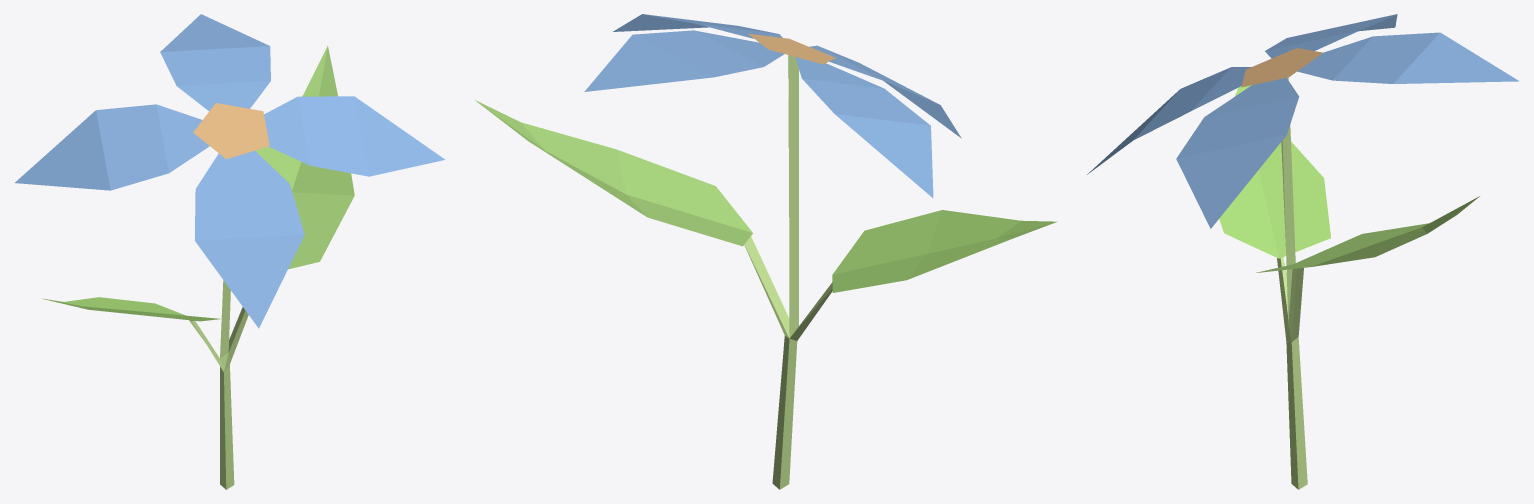
Rendered from Flower_a_TwoS_11.fbx.
3 views of the same model, side by side, from view 1: azimuth 30°, elevation 25°; view 2: azimuth 150°, elevation 25°; view 3: azimuth 270°, elevation 25° (orthographic). The views are drawn at different scales.
Visible parts, largest first — view 1: Flower_a_TwoS_11; view 2: Flower_a_TwoS_11; view 3: Flower_a_TwoS_11.
Boxes of the visible parts, left/top/right/bottom form: Flower_a_TwoS_11: left=15, top=14, right=445, bottom=489; Flower_a_TwoS_11: left=475, top=14, right=1057, bottom=489; Flower_a_TwoS_11: left=1087, top=14, right=1519, bottom=489.
Bounding box in the file's own units: 60.32 × 57.75 × 50.37.
